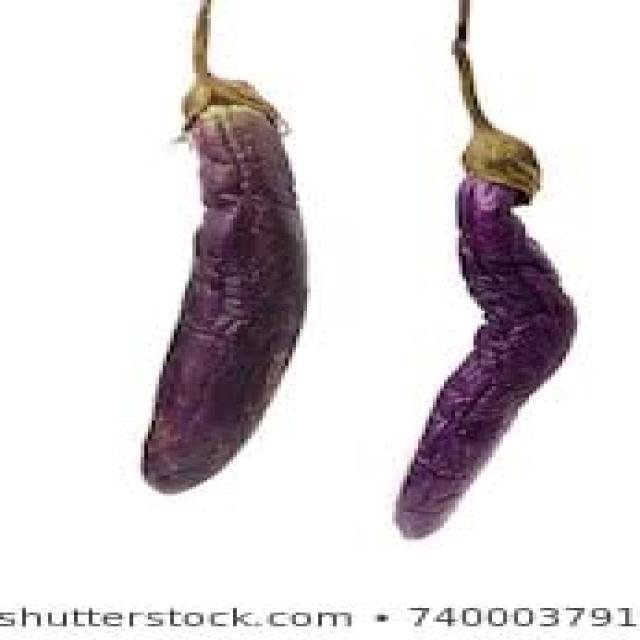biodegradable: (392, 0, 574, 535), (137, 0, 307, 489)
